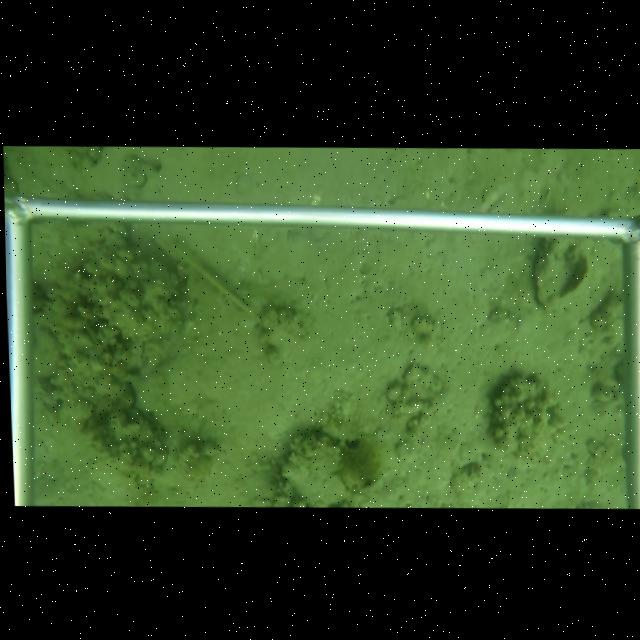Oyster-Indeterminate: (278, 428, 348, 505)
